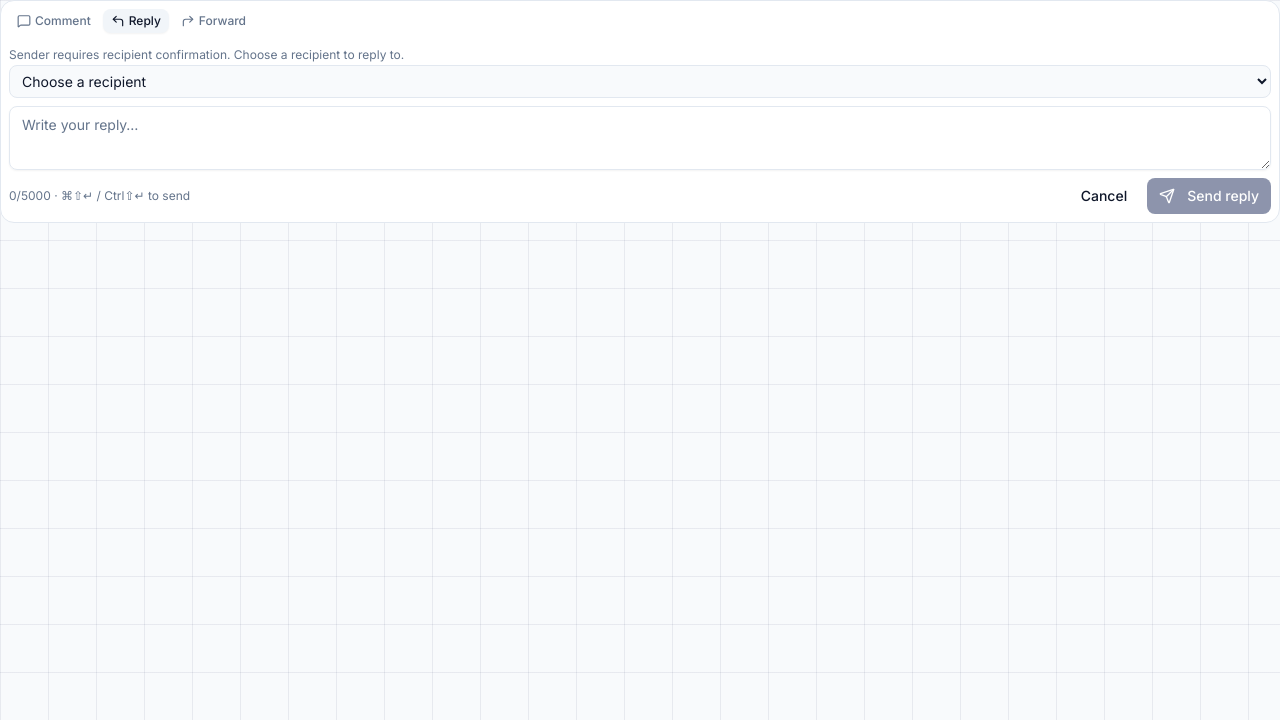
Test: CollaborationComposer › shows the manual option even when the picker has no candidates
Select "Type an email address…" in the dropdown named "Reply recipient" at (640, 82), box x1=9 y1=65 x2=1271 y2=98
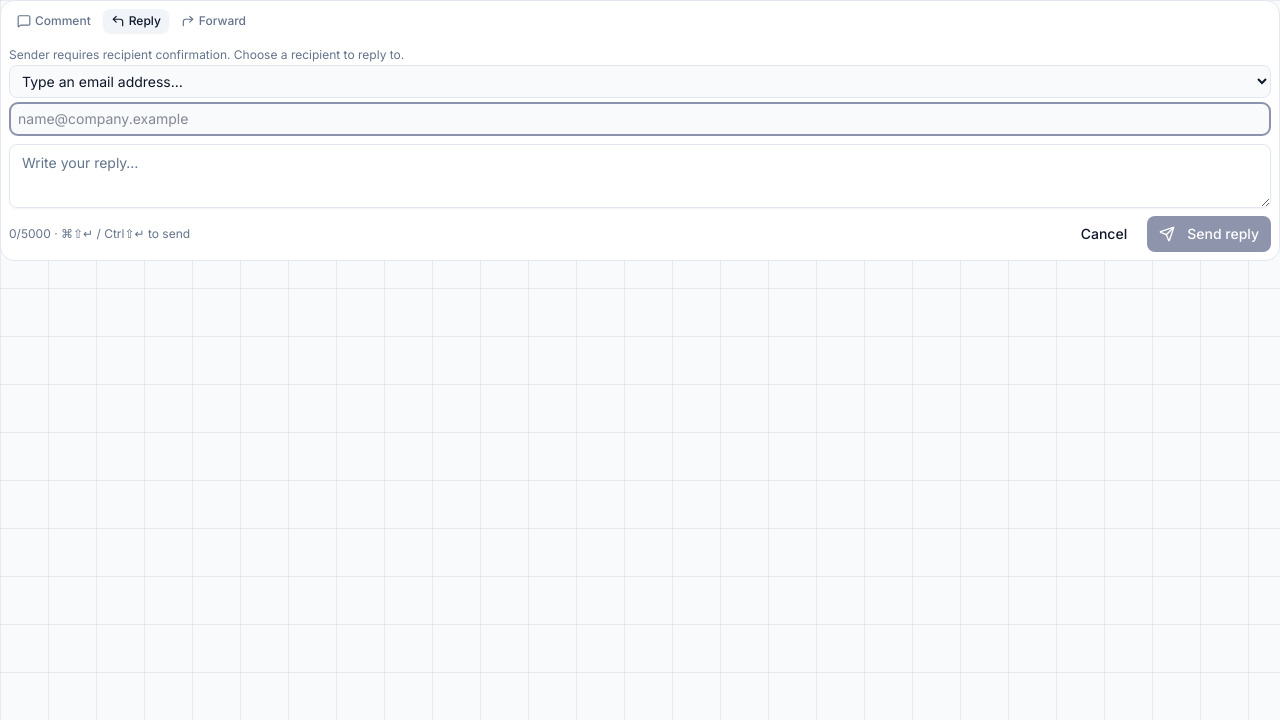
Expected: the field named "Manual reply recipient" is shown, x1=9 y1=102 x2=1271 y2=136
